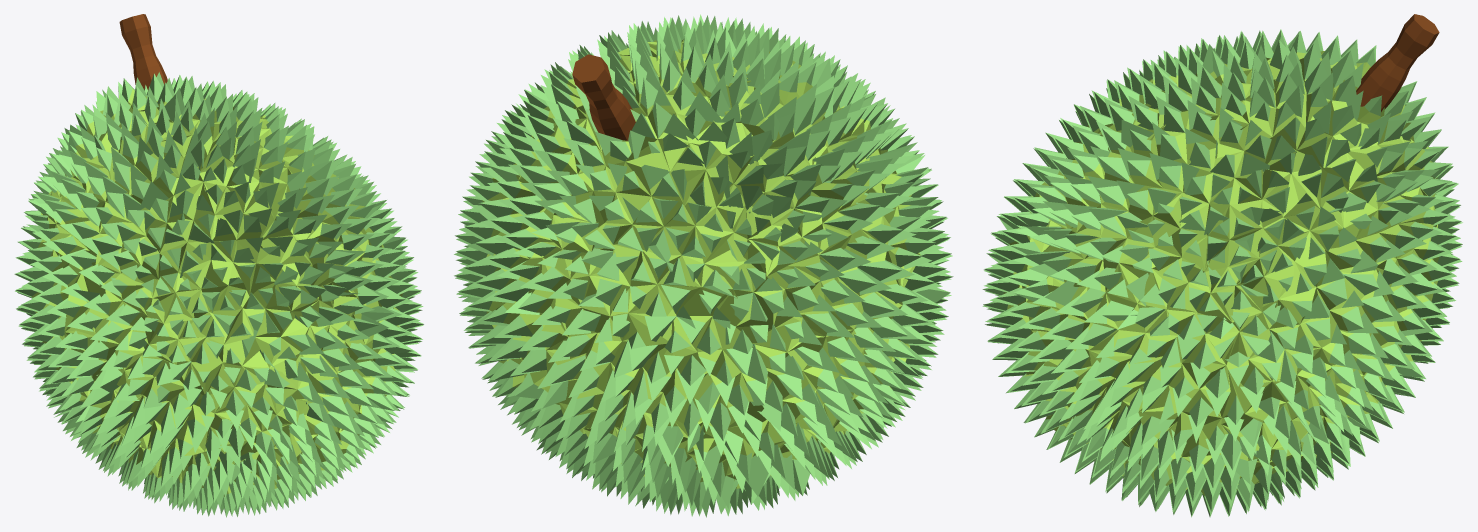
The model's file is Durian.fbx.
The picture shows the model from 3 angles, left to right: view 1: azimuth 30°, elevation 25°; view 2: azimuth 150°, elevation 25°; view 3: azimuth 270°, elevation 25°; orthographic projection. The views are drawn at different scales.
Visible parts, largest first — view 1: Icosphere.001, Cylinder.008; view 2: Icosphere.001, Cylinder.008; view 3: Icosphere.001, Cylinder.008.
Part boxes in pixels (x1,y1,x2,y2): Icosphere.001: (14,72,424,517); Cylinder.008: (119,14,167,90); Icosphere.001: (454,14,953,517); Cylinder.008: (572,54,635,140); Icosphere.001: (982,29,1462,517); Cylinder.008: (1356,14,1439,111).
Size of the model in its own units: 233 by 268 by 244.
